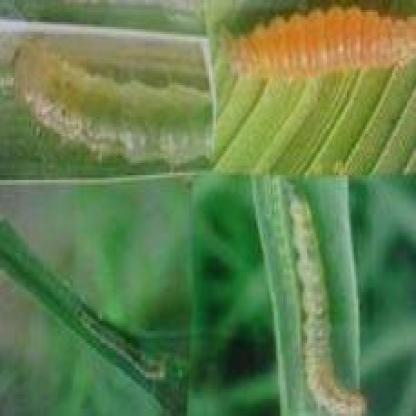leaf-folder: (8, 22, 210, 172), (265, 187, 374, 416), (231, 2, 416, 92), (56, 295, 176, 393)
